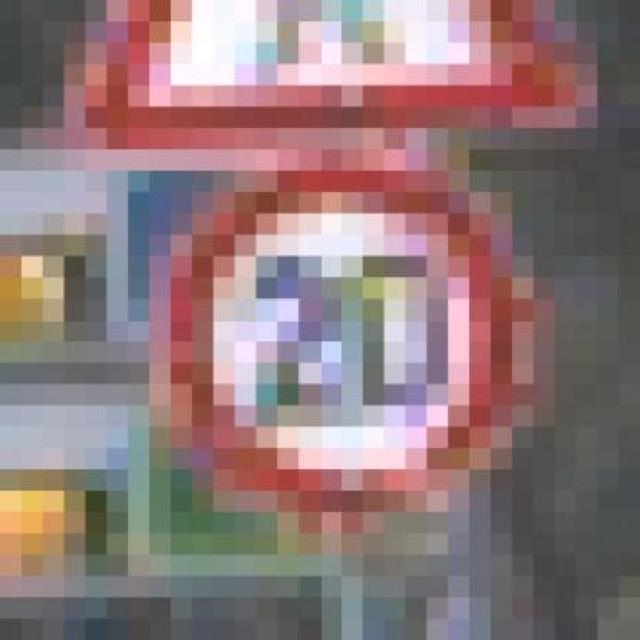forb_speed_over_20: (179, 150, 521, 512)
